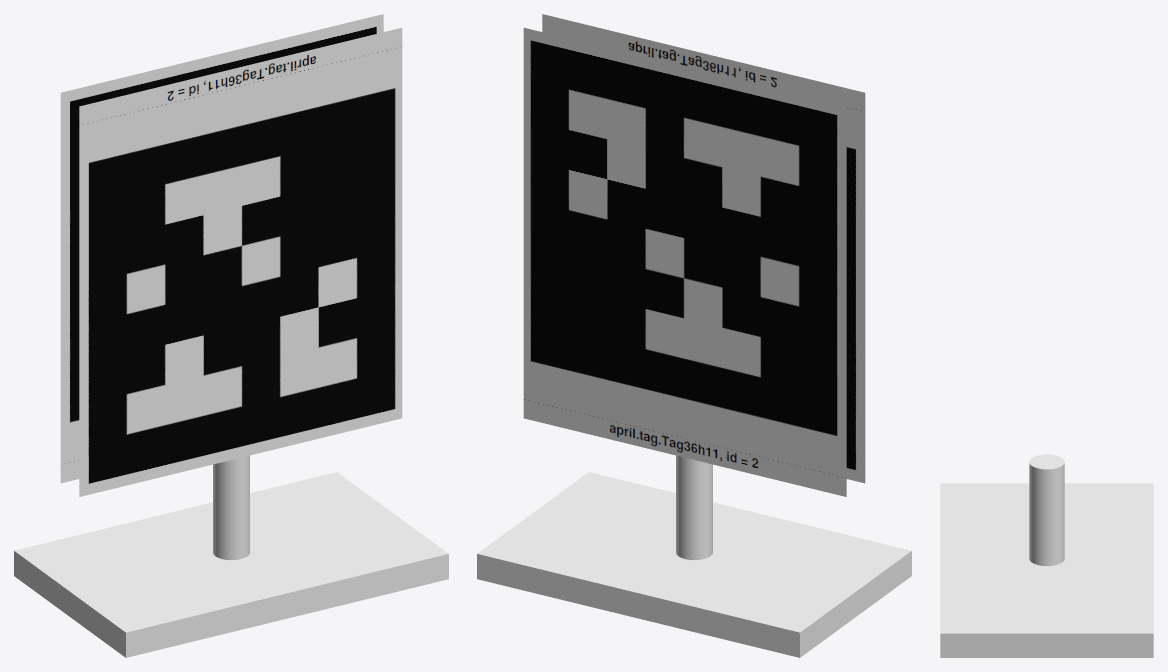
Rendered from tag2.dae.
The picture shows the model from 3 angles, left to right: view 1: azimuth 30°, elevation 25°; view 2: azimuth 150°, elevation 25°; view 3: azimuth 270°, elevation 25°; orthographic projection. The views are drawn at different scales.
Parts seen in each view (by area): view 1: image_2, tag (×3), image_1, image_0; view 2: image_1, tag (×3), image_2, image_0; view 3: tag (×3), image_0.
Part boxes in pixels (x1,y1,x2,y2): image_2: [79, 28, 402, 496]; tag (×3): [14, 455, 448, 657]; image_1: [60, 14, 383, 483]; image_0: [54, 534, 149, 565]; image_1: [523, 28, 846, 496]; tag (×3): [477, 455, 911, 657]; image_2: [542, 14, 865, 483]; image_0: [713, 582, 808, 608]; tag (×3): [940, 454, 1153, 657]; image_0: [1078, 498, 1135, 528].
Bounding box in the file's own units: 7.87 × 4.72 × 12.06.
4 materials, 2 textured.
